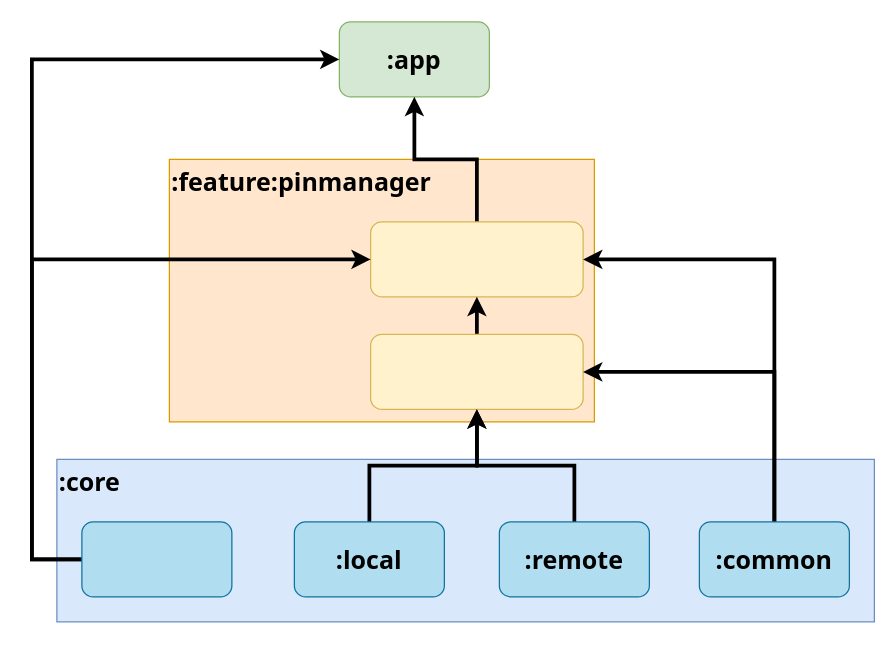
Some shapes in this 896 by 654 pixel diagram are drawn without their labels. Here are the shapes that lost their labels. From the top down, the centre of each, then its label:
the point at 476,259: :presentation
the point at 476,371: :data
the point at 156,559: :design
